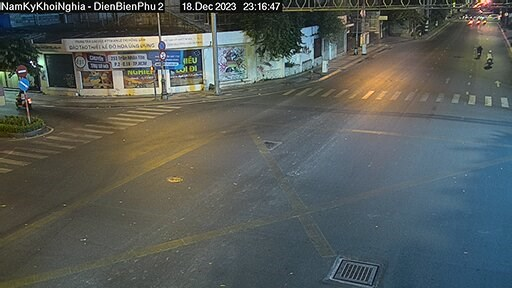motorbike: (471, 39, 489, 61), (483, 51, 500, 66)
